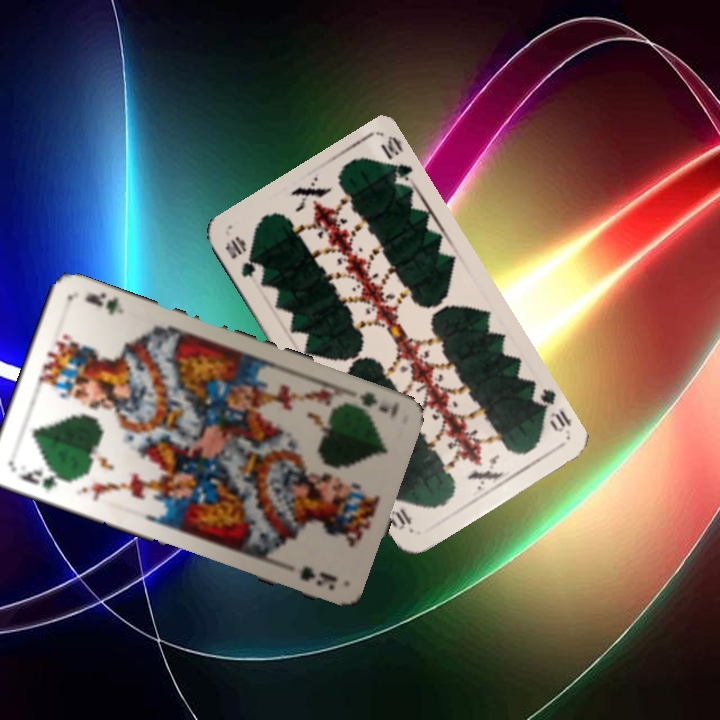G10: (527, 384, 574, 436), (221, 232, 259, 280)
GK: (343, 387, 402, 421), (15, 464, 70, 493)
